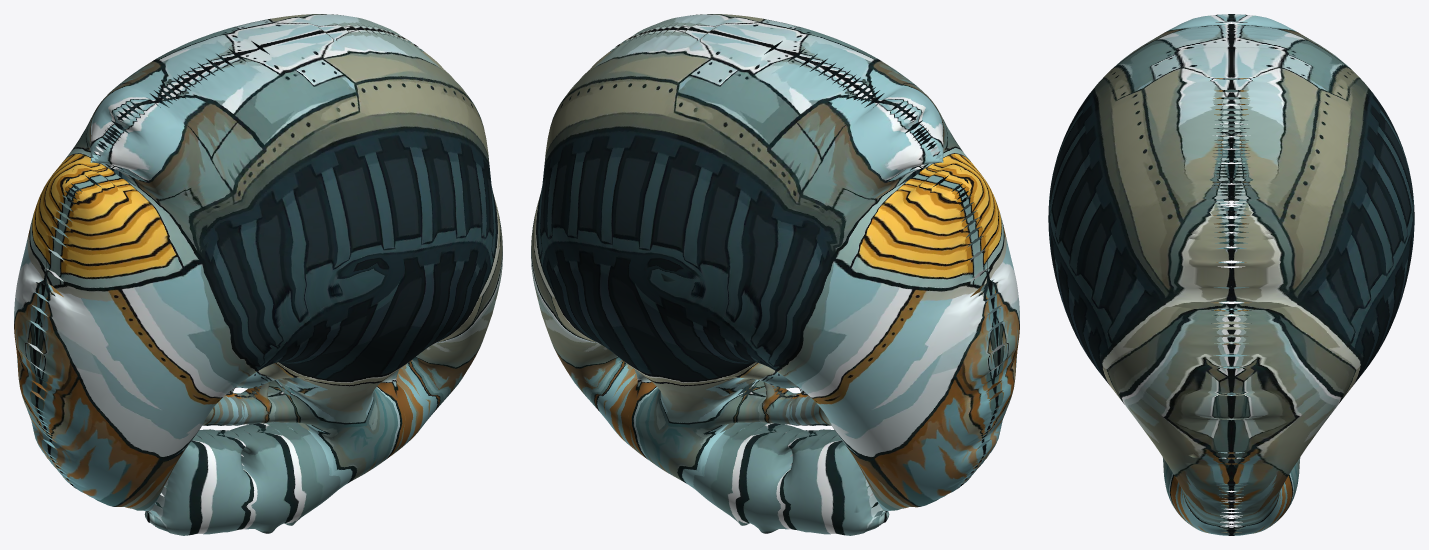
The model's file is chassis_shell.glb.
The picture shows the model from 3 angles, left to right: view 1: azimuth 30°, elevation 25°; view 2: azimuth 150°, elevation 25°; view 3: azimuth 270°, elevation 25°; orthographic projection.
Visible parts, largest first — view 1: chassis_shell; view 2: chassis_shell; view 3: chassis_shell.
Boxes of the visible parts, <box> form: chassis_shell: <box>14,14,502,535</box>; chassis_shell: <box>531,14,1019,535</box>; chassis_shell: <box>1048,14,1414,535</box>.
Size of the model in its own units: 0.9887 by 0.9944 by 0.6959.
1 material, 1 textured.
